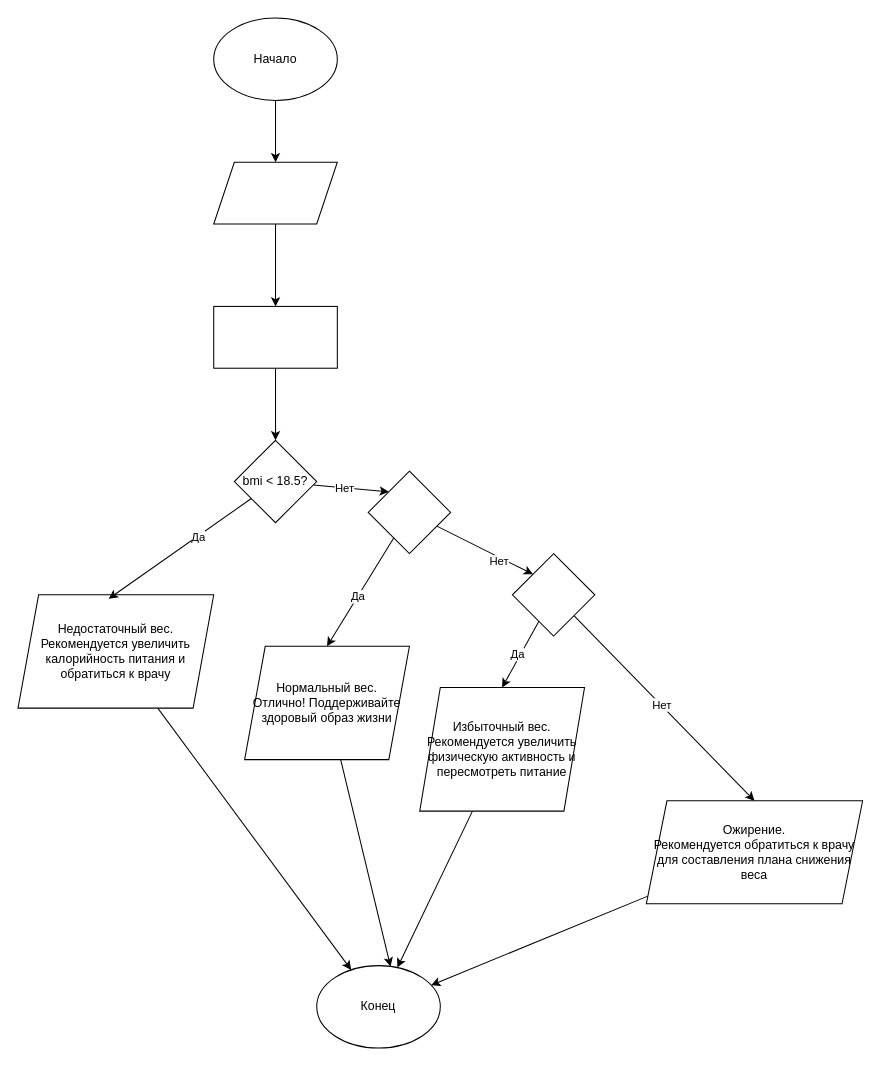
This 881x1066 diagram has some shape labels left out. Here are the shapes that lost their labels. From the top down, the box of each, then its label:
(213, 161, 337, 224): Введите вес: Введите рост:
(213, 305, 337, 368): bmi = weight / (height*height)
(367, 470, 451, 554): bmi < 25?
(511, 553, 595, 636): bmi < 30?
